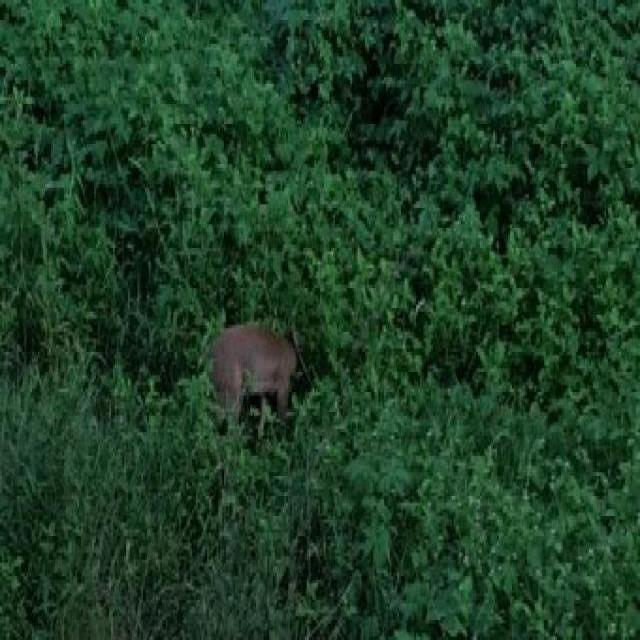deer: (188, 314, 310, 447)
